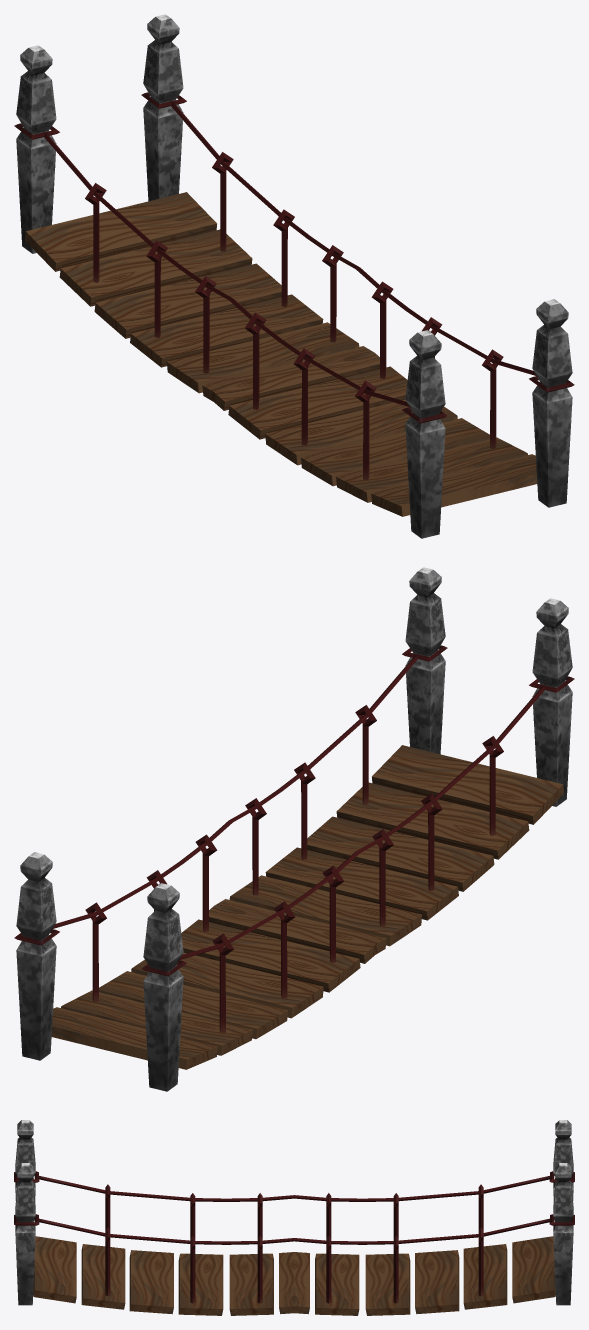
File: Bridge_Third.FBX
3 renders of one model, top to bottom at view 1: azimuth 30°, elevation 25°; view 2: azimuth 150°, elevation 25°; view 3: azimuth 270°, elevation 25°, orthographic. The views are drawn at different scales.
Visible parts, largest first — view 1: Object002; view 2: Object002; view 3: Object002.
Boxes of the visible parts, x1,y1,x2,y2 form: Object002: (14,14,574,538); Object002: (14,567,574,1091); Object002: (14,1120,574,1315).
Size of the model in its own units: 380 by 475 by 1657.
